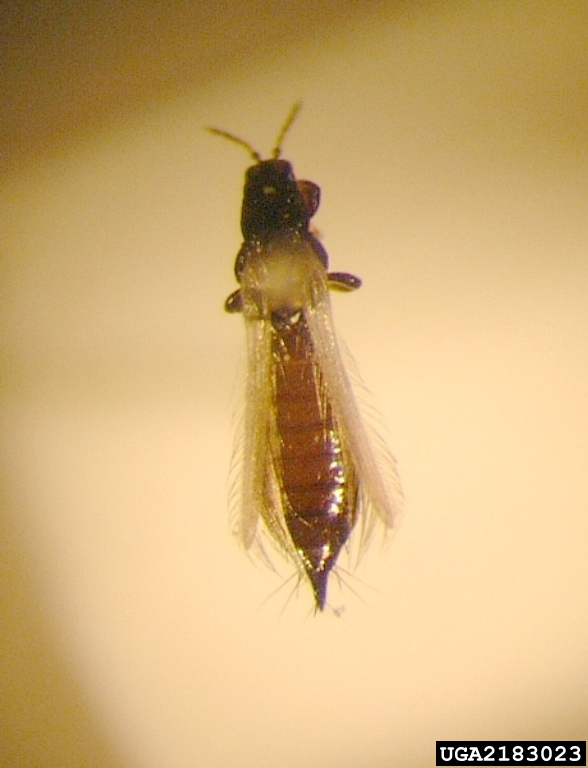Thrips: (200, 77, 403, 642)
